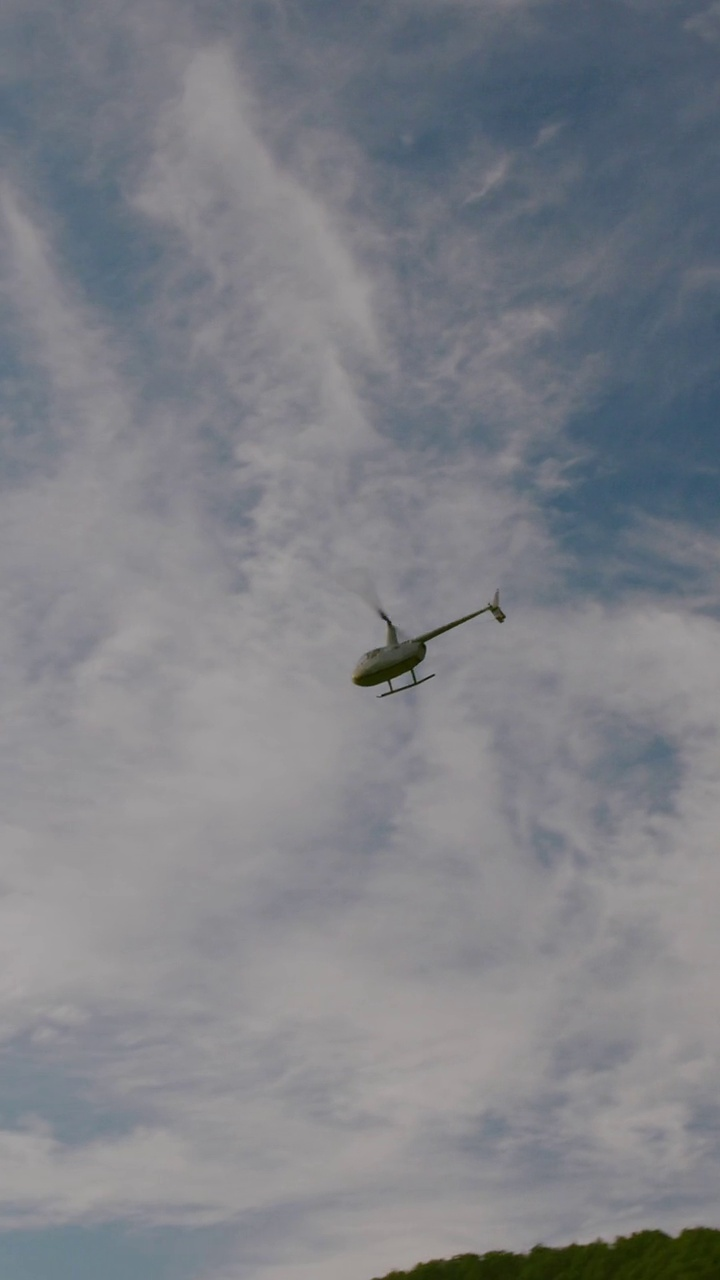heli: (349, 578, 507, 698)
